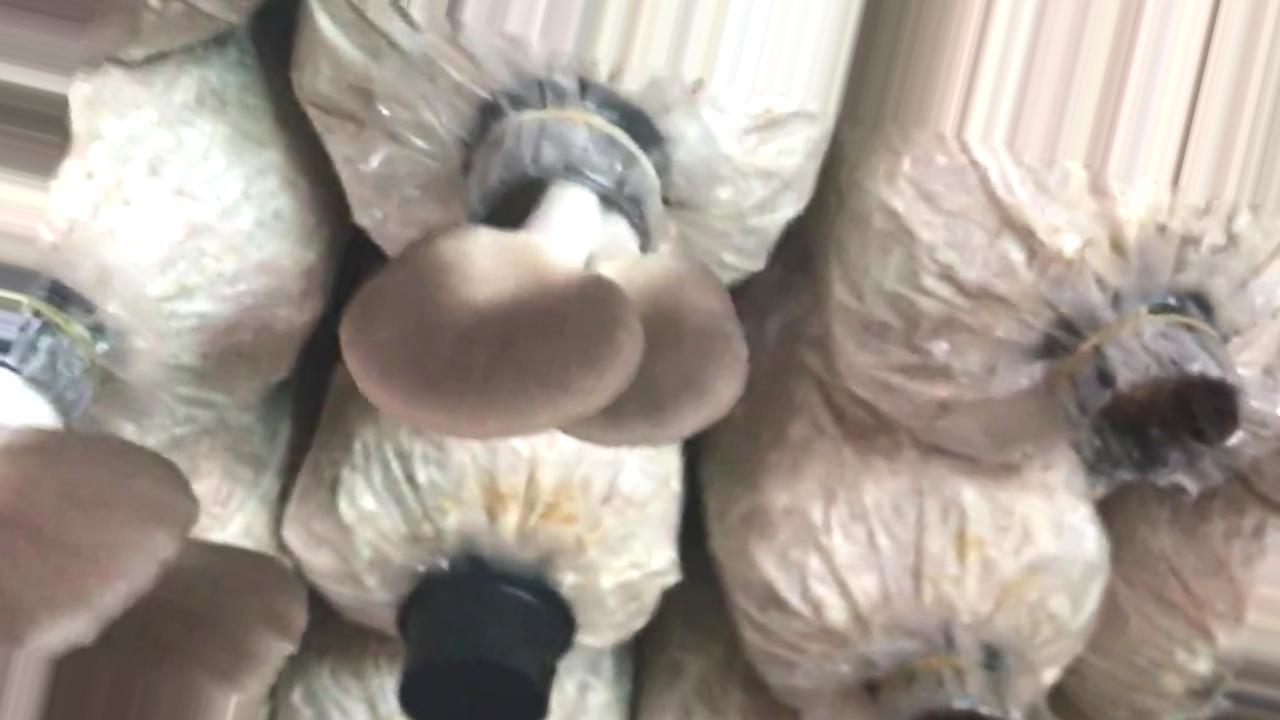nam: (1, 256, 316, 720), (330, 109, 753, 452)
